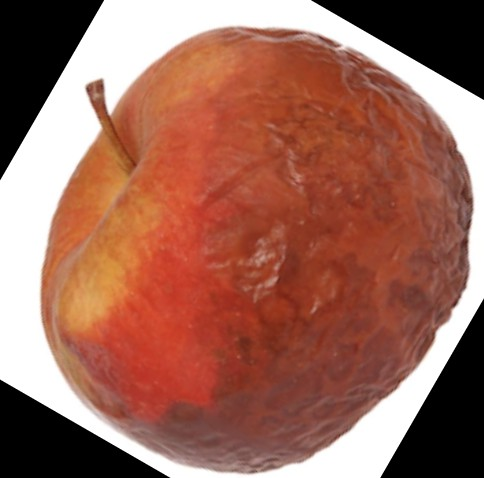rotten_apple: (38, 25, 475, 473)
